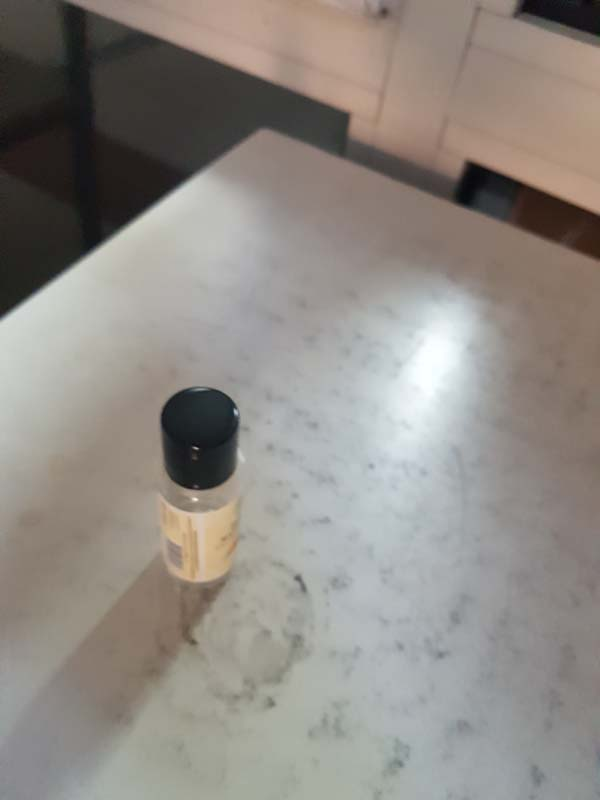redbulkolonya: (150, 384, 244, 584)
